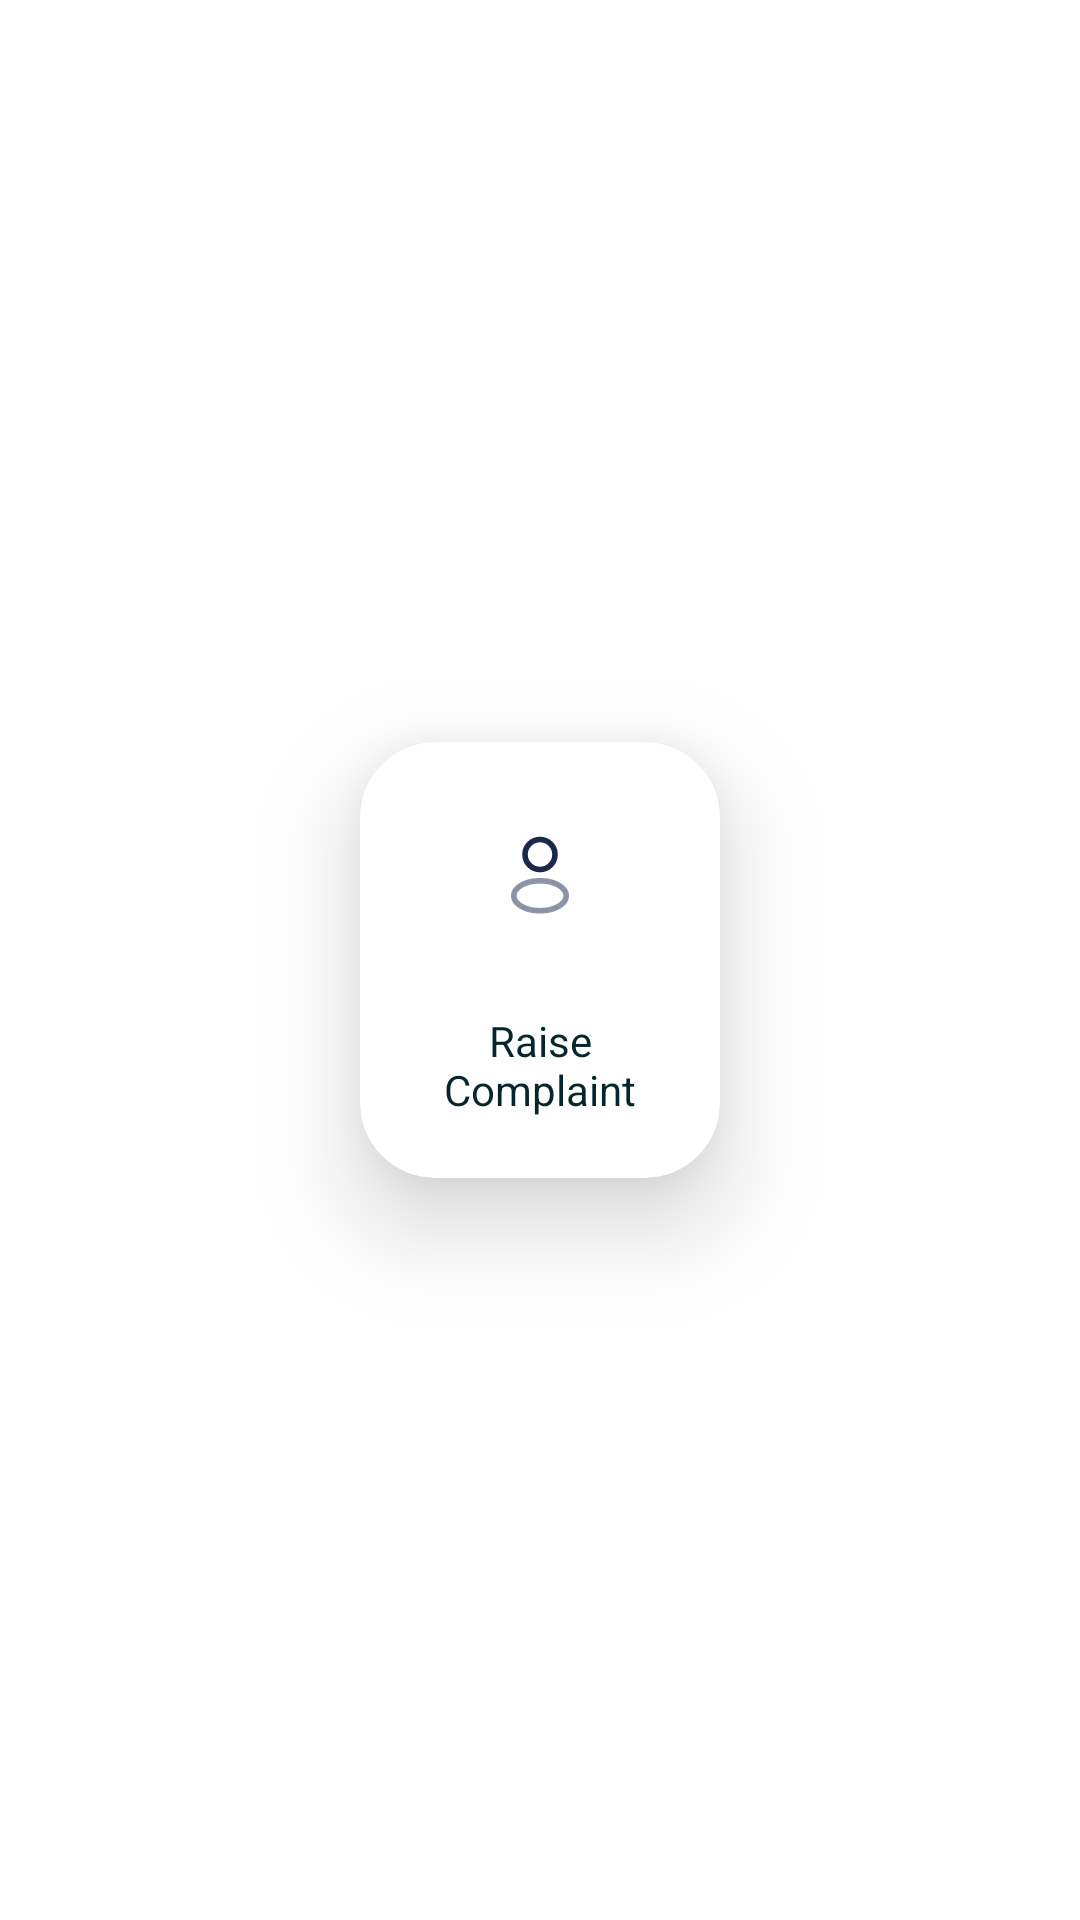

Named icons in this screenshot (1080w x 1920h) and their centers, point (x, y):
user: point (540, 875)
